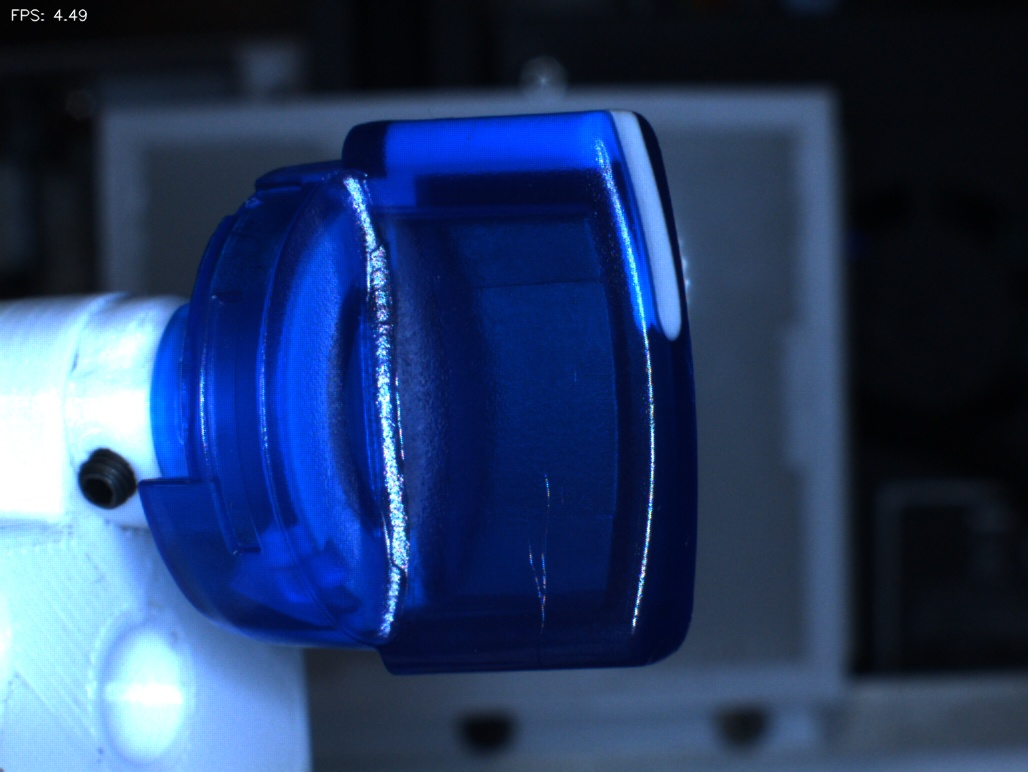Givrage: (503, 442, 593, 658)
